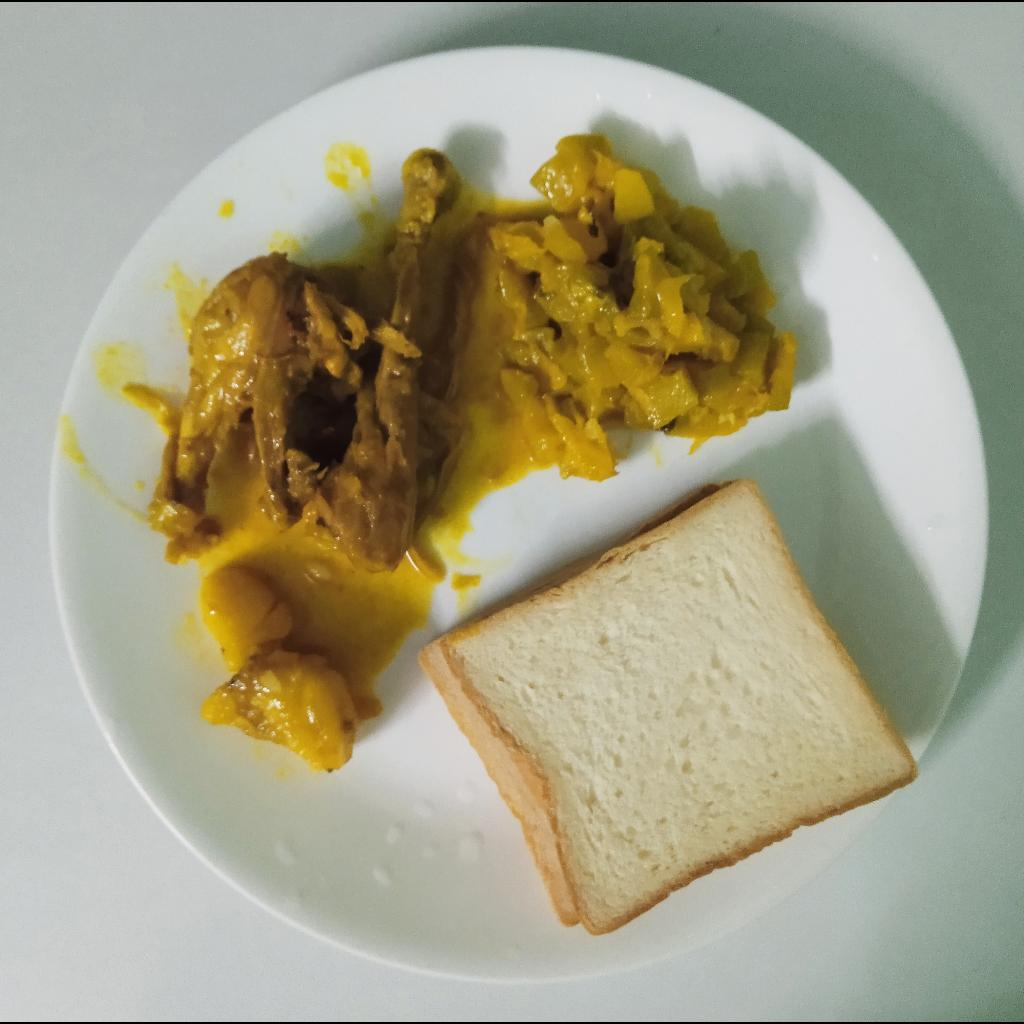bread: (411, 480, 926, 943)
chicken: (127, 150, 472, 580)
potato: (198, 569, 358, 777)
vegetable: (484, 135, 800, 483)
